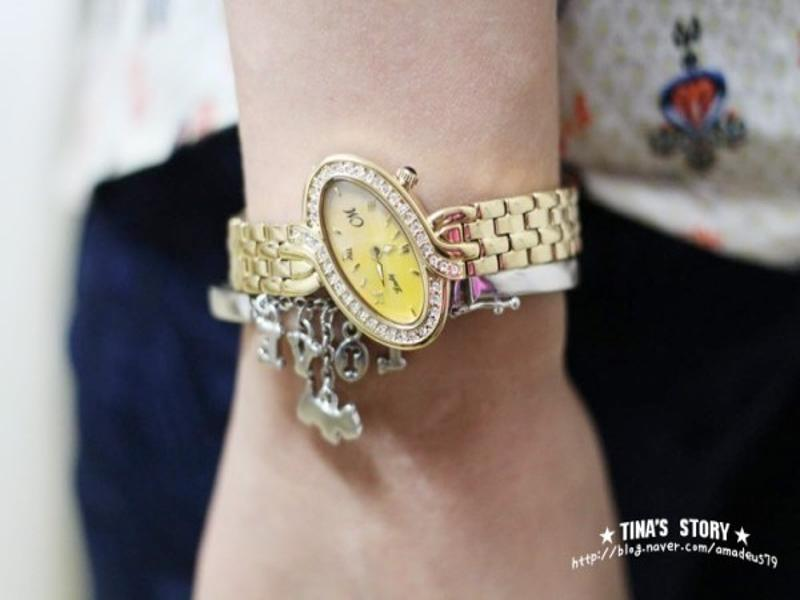watch: (214, 155, 580, 353)
